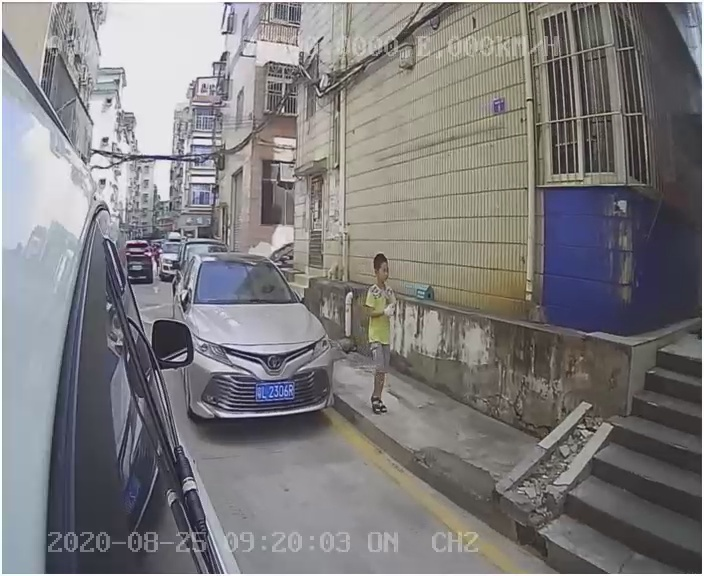person: (349, 249, 415, 421)
